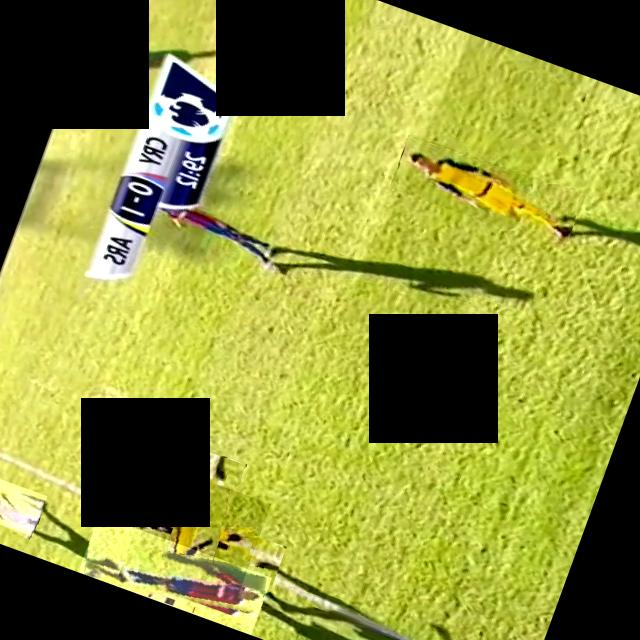referee: (0, 454, 46, 536)
soccer-player: (117, 463, 270, 616), (77, 515, 271, 635), (388, 133, 582, 251)
